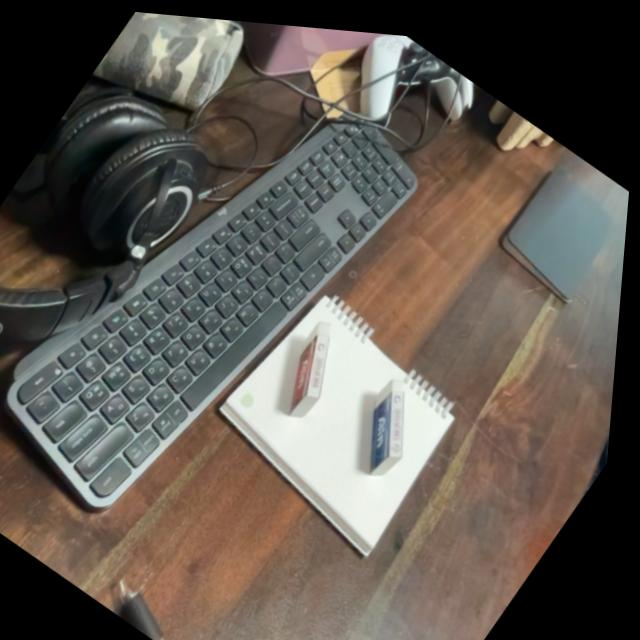blue: (338, 360, 450, 485)
red: (265, 303, 372, 428)
